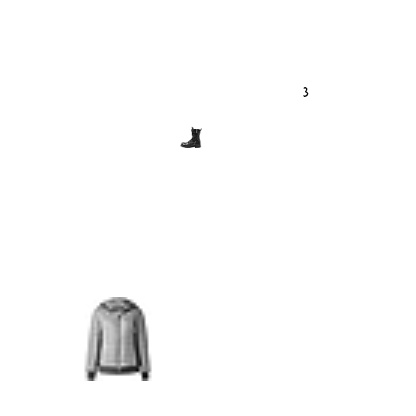2: (141, 109, 225, 193)
6: (131, 192, 215, 276)
7: (32, 35, 60, 63)
Bag: (114, 270, 136, 292)
Pullover: (252, 331, 308, 387)
